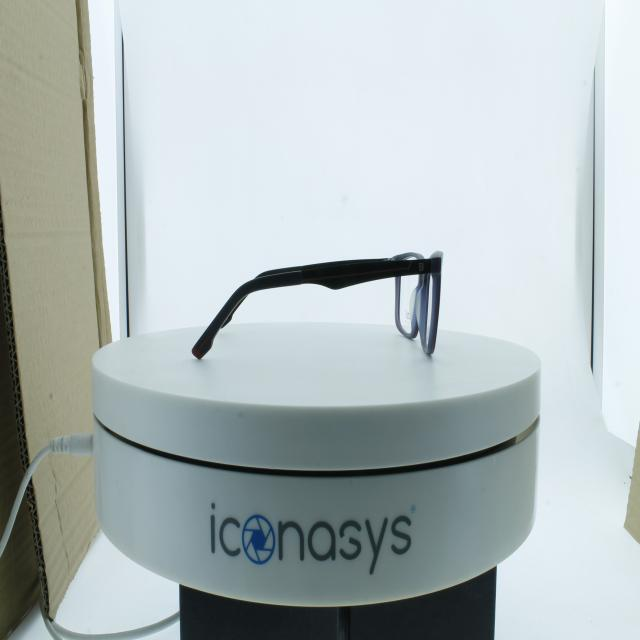Specs: (190, 234, 456, 375)
